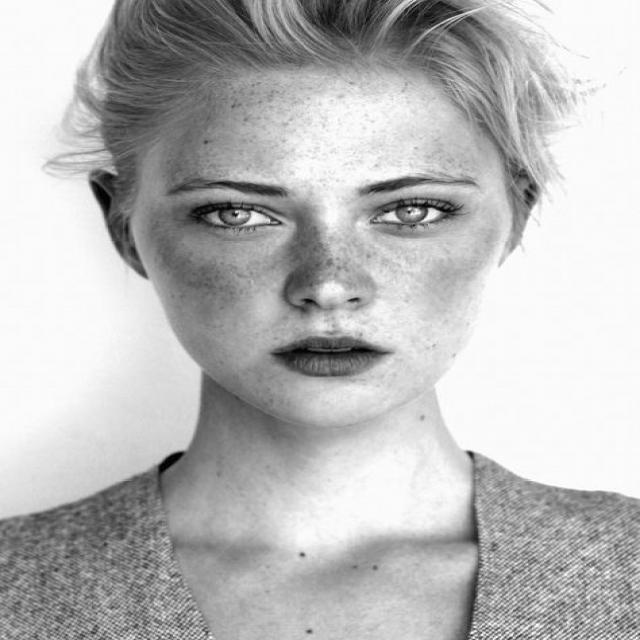earlobe: (119, 239, 149, 279), (498, 233, 519, 266)
eye: (189, 202, 287, 234), (369, 201, 454, 228)
nose: (285, 296, 375, 328)
wholeear: (86, 168, 149, 279), (498, 152, 548, 266)
